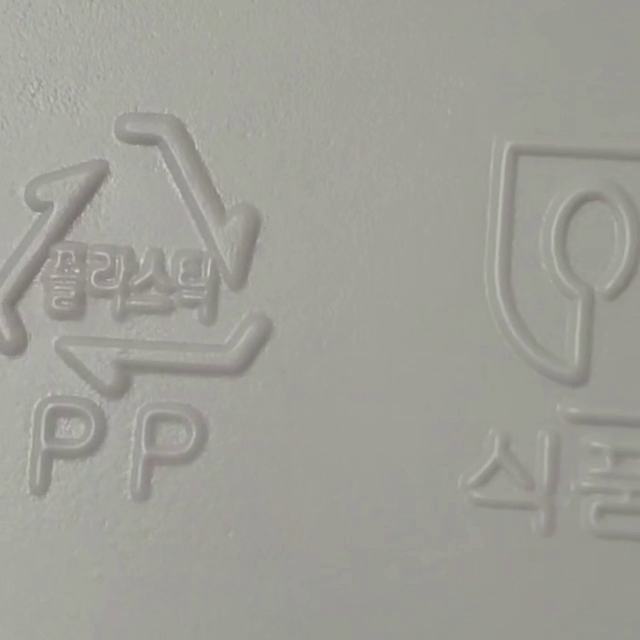Plastic: (0, 105, 273, 388)
